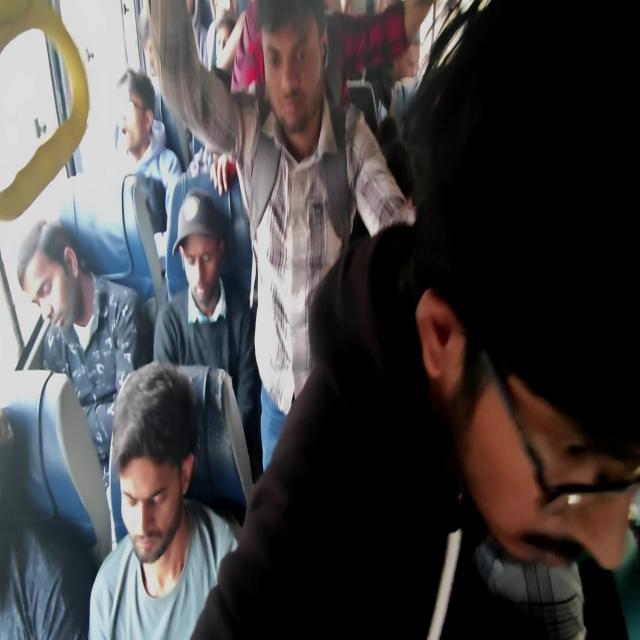person: (436, 140, 633, 496), (12, 230, 107, 368), (189, 200, 257, 374), (250, 16, 328, 138), (90, 374, 196, 459), (252, 0, 398, 22), (191, 29, 257, 72), (118, 75, 151, 159), (125, 21, 173, 67), (178, 0, 212, 34)
